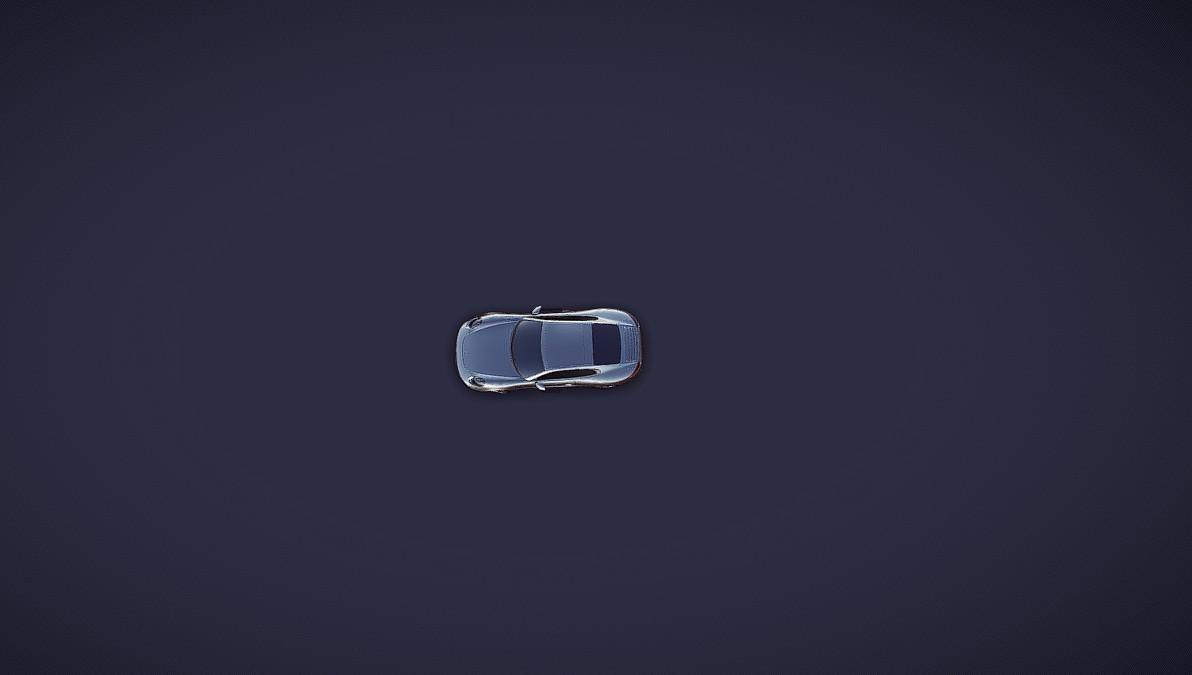Car: (454, 305, 643, 394)
